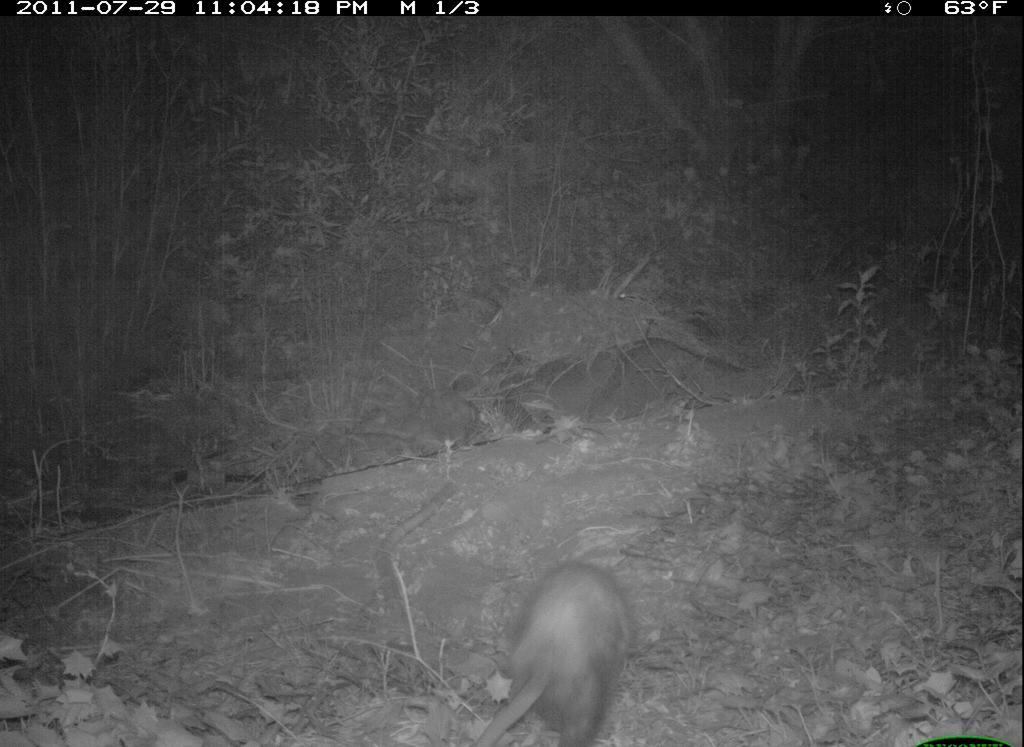opossum: (461, 546, 647, 747)
